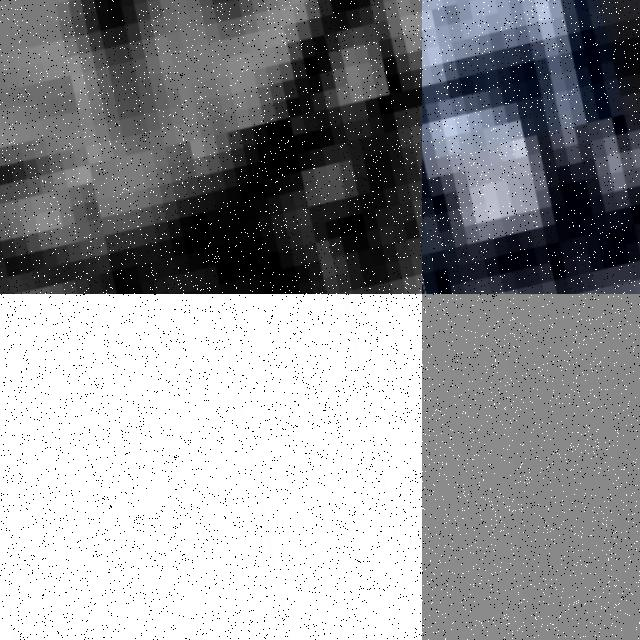drone: (0, 294, 422, 640), (0, 0, 422, 294), (422, 0, 640, 294)
